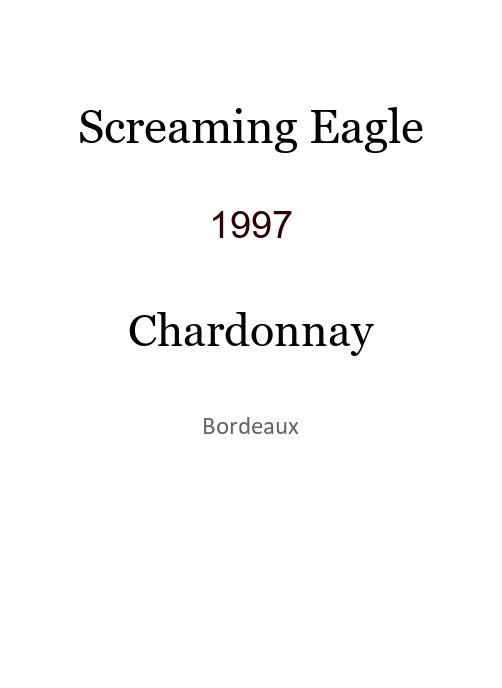brand: (78, 99, 424, 145)
region: (202, 415, 299, 432)
variety: (128, 304, 374, 348)
vintage: (209, 203, 293, 230)
